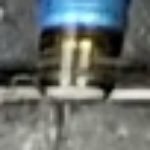bottle: (18, 15, 134, 131)
